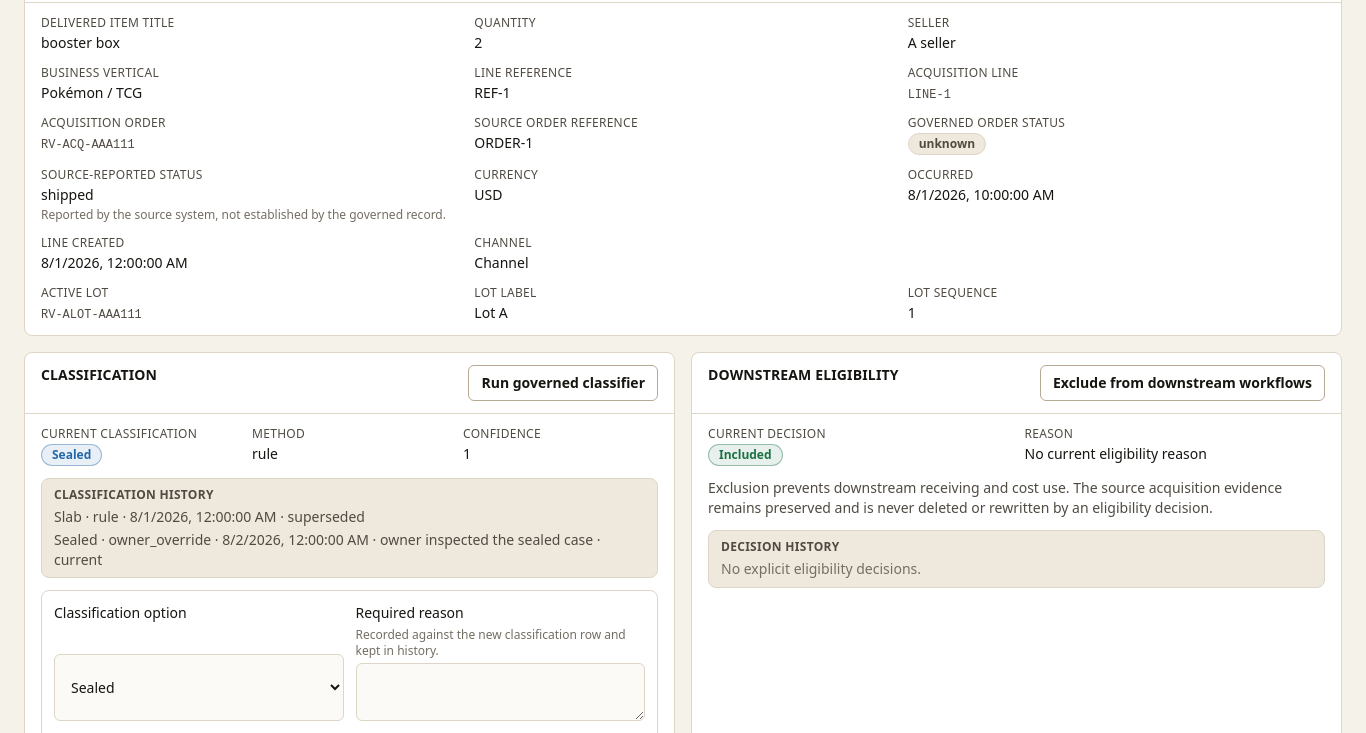
it: acquisition detail — classification › runs the automatic classifier and reports success
(page scrolled)
Click the button "Run governed classifier" at (563, 383), box [468, 365, 658, 401]
(page scrolled)
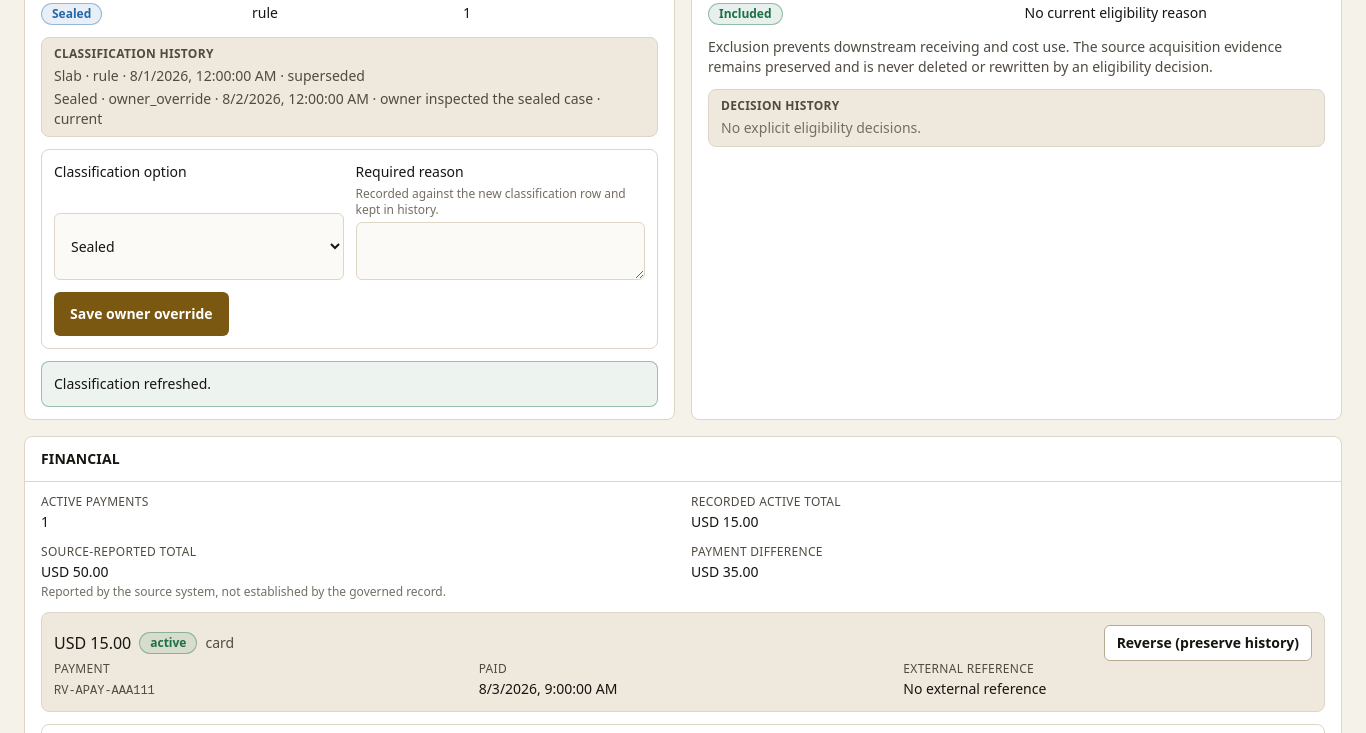
Now the text "Classification refreshed." is shown, box [54, 374, 211, 393]
